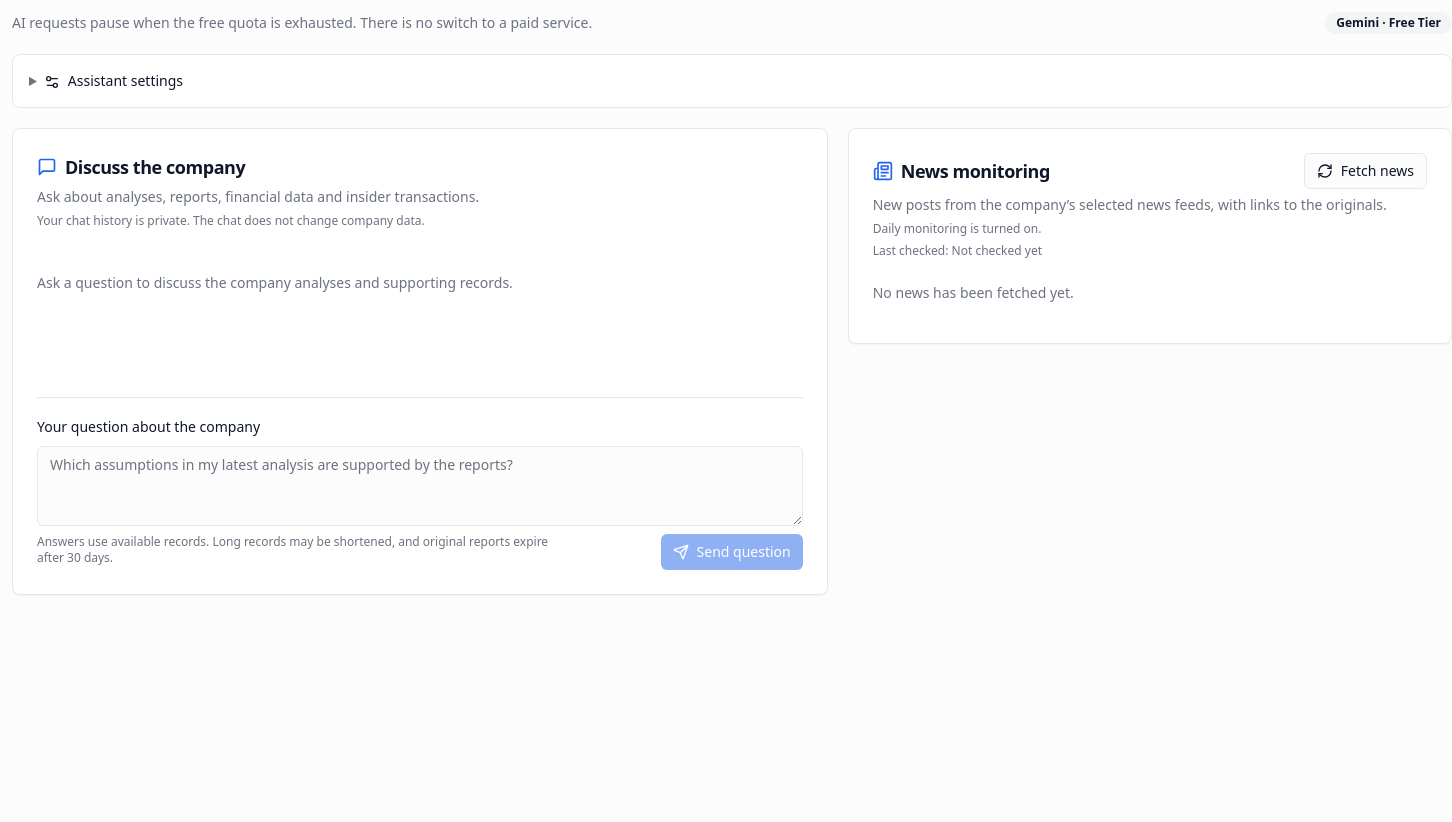
Test case: CompanyAssistant › shows a quota pause after a successful RSS refresh without reporting an AI success or retrying
This screenshot has width=1452, height=822.
What coordinates should you click on to do the following:
click the button "Fetch news"
I would click on:
 (1365, 171)
Its box is [1304, 153, 1427, 189].
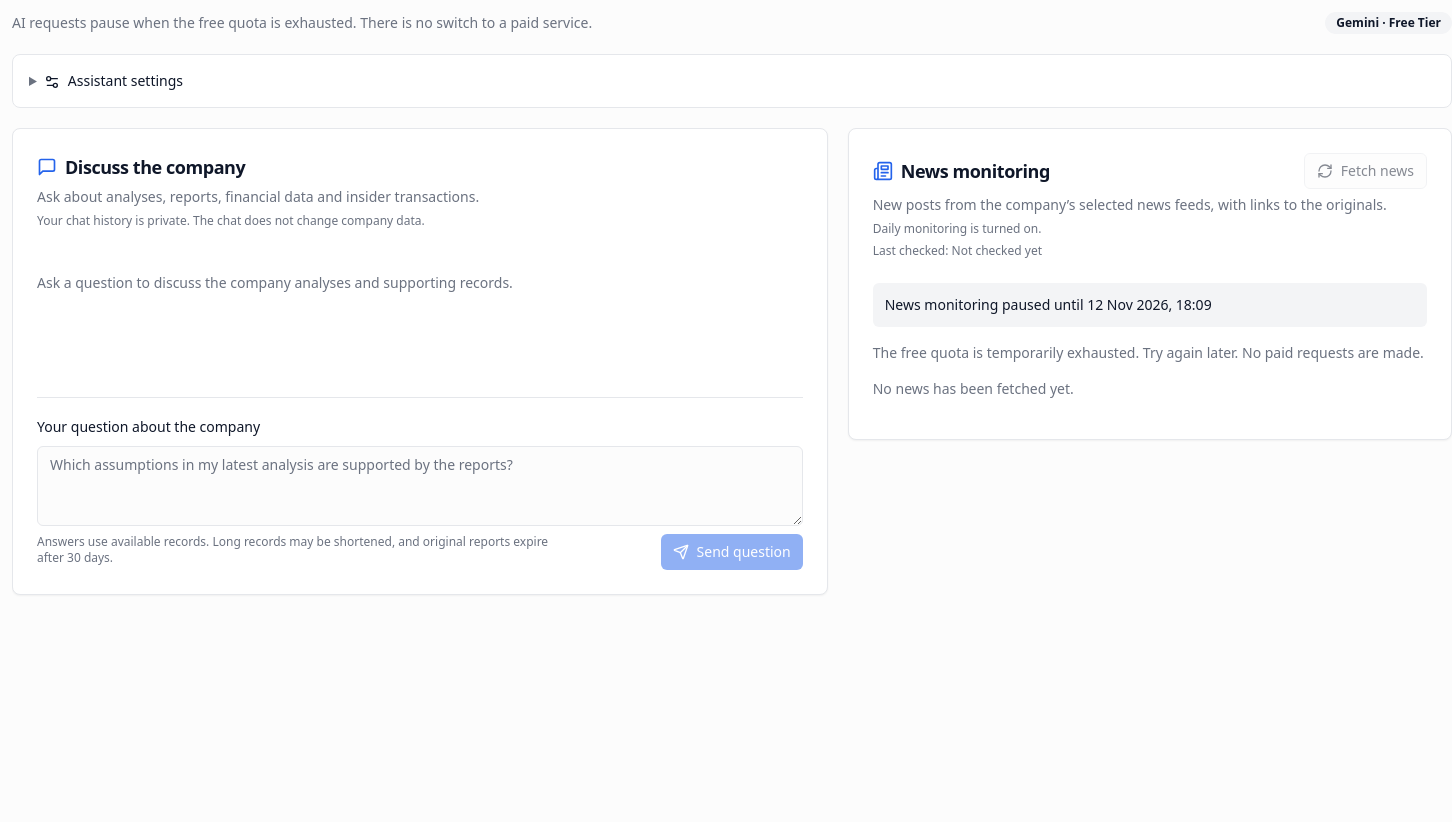
Expected: the button "Fetch news" is disabled, [1304, 153, 1427, 189]
